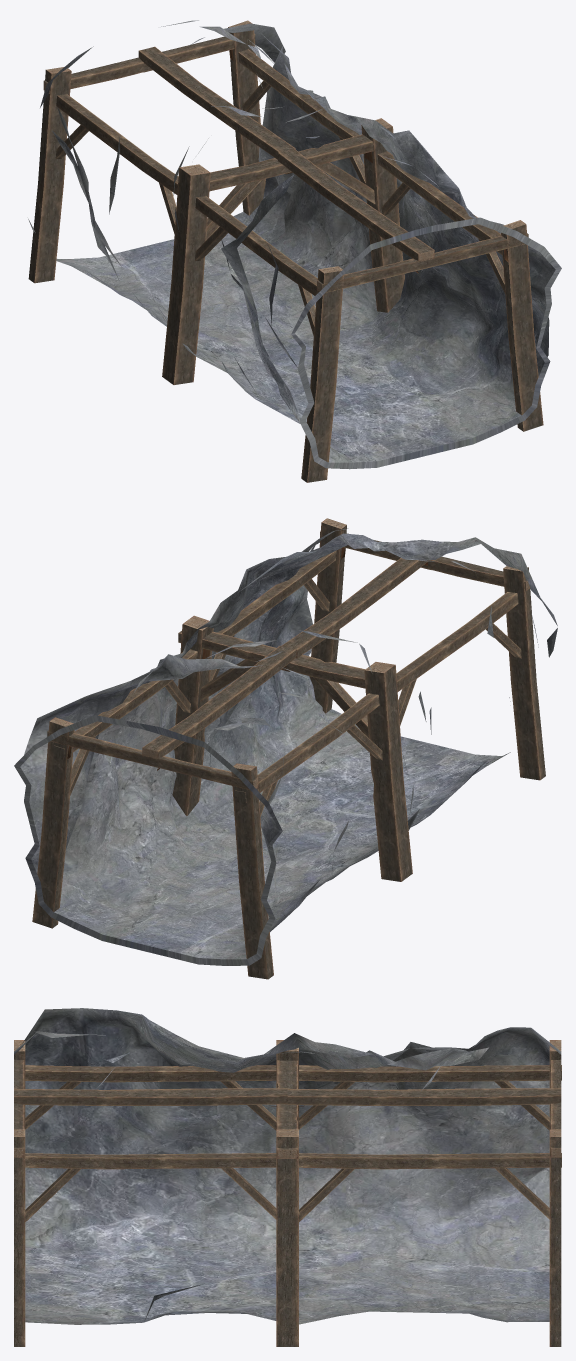
The model's file is mine_tnl_straight_12 variant.glb.
The picture shows the model from 3 angles, top to bottom: view 1: azimuth 30°, elevation 25°; view 2: azimuth 150°, elevation 25°; view 3: azimuth 270°, elevation 25°; orthographic projection.
Parts seen in each view (by area): view 1: mine_tnl_straight_12_LOD0; view 2: mine_tnl_straight_12_LOD0; view 3: mine_tnl_straight_12_LOD0.
Part boxes in pixels (x1,y1,x2,y2): mine_tnl_straight_12_LOD0: (28,20,561,482); mine_tnl_straight_12_LOD0: (14,518,557,979); mine_tnl_straight_12_LOD0: (14,1008,561,1346).
Bounding box in the file's own units: 6.74 × 5.93 × 12.02.
3 materials, 3 textured.
